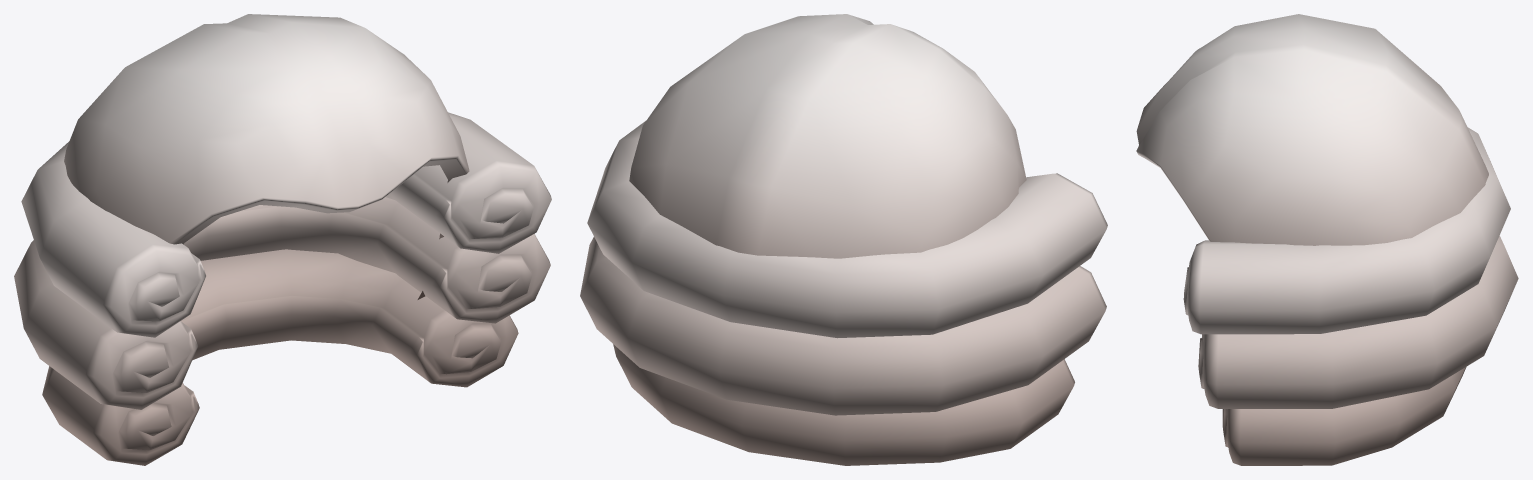
Rendered from Hairstyle_Male_07.glb.
The picture shows the model from 3 angles, left to right: view 1: azimuth 30°, elevation 25°; view 2: azimuth 150°, elevation 25°; view 3: azimuth 270°, elevation 25°; orthographic projection. The views are drawn at different scales.
Parts seen in each view (by area): view 1: Hairstyle_Male_07; view 2: Hairstyle_Male_07; view 3: Hairstyle_Male_07.
Part boxes in pixels (x1=…): Hairstyle_Male_07: x1=14, y1=14, x2=551, y2=465; Hairstyle_Male_07: x1=580, y1=14, x2=1107, y2=465; Hairstyle_Male_07: x1=1136, y1=14, x2=1518, y2=465.
Size of the model in its own units: 0.7898 by 0.6069 by 0.602.
1 material, 1 textured.
